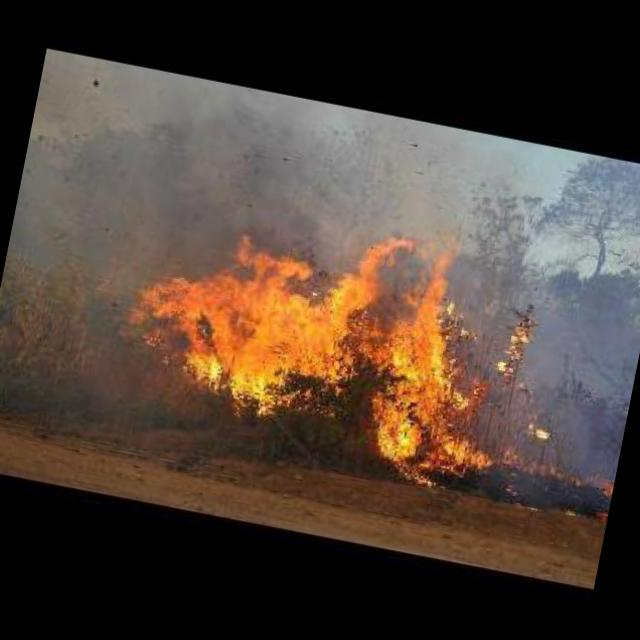fire: (126, 188, 515, 468)
